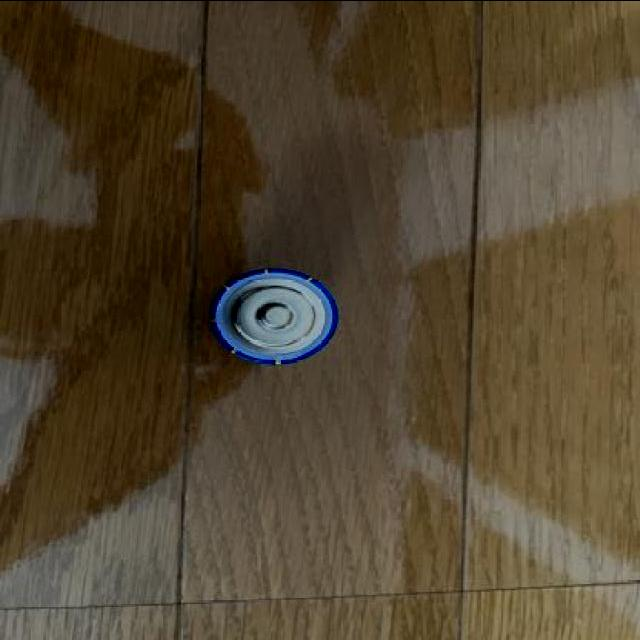AA: (212, 267, 340, 366)
